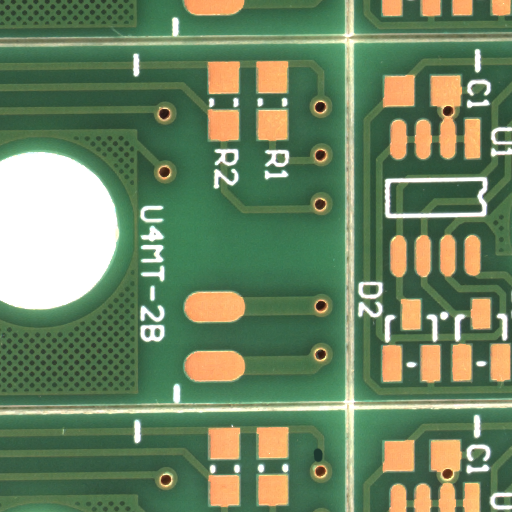Mouse_bite: (317, 455, 325, 470)
